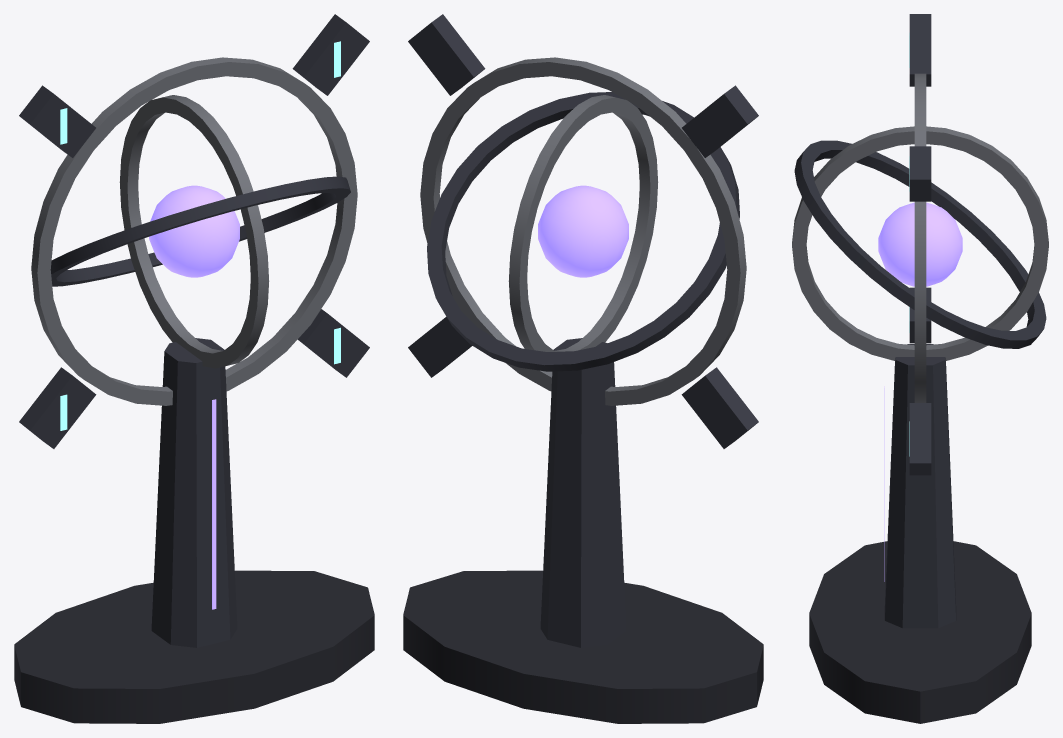
File: mrd_prp_temporal_anchor_a.glb
3 renders of one model, left to right at view 1: azimuth 30°, elevation 25°; view 2: azimuth 150°, elevation 25°; view 3: azimuth 270°, elevation 25°, orthographic. The views are drawn at different scales.
Parts seen in each view (by area): view 1: mesh_intact; view 2: mesh_intact; view 3: mesh_intact.
Part boxes in pixels (x1=…): mesh_intact: x1=14, y1=14, x2=374, y2=723; mesh_intact: x1=403, y1=14, x2=763, y2=723; mesh_intact: x1=792, y1=14, x2=1048, y2=723.
Bounding box in the file's own units: 5.2 × 8.75 × 3.6.
